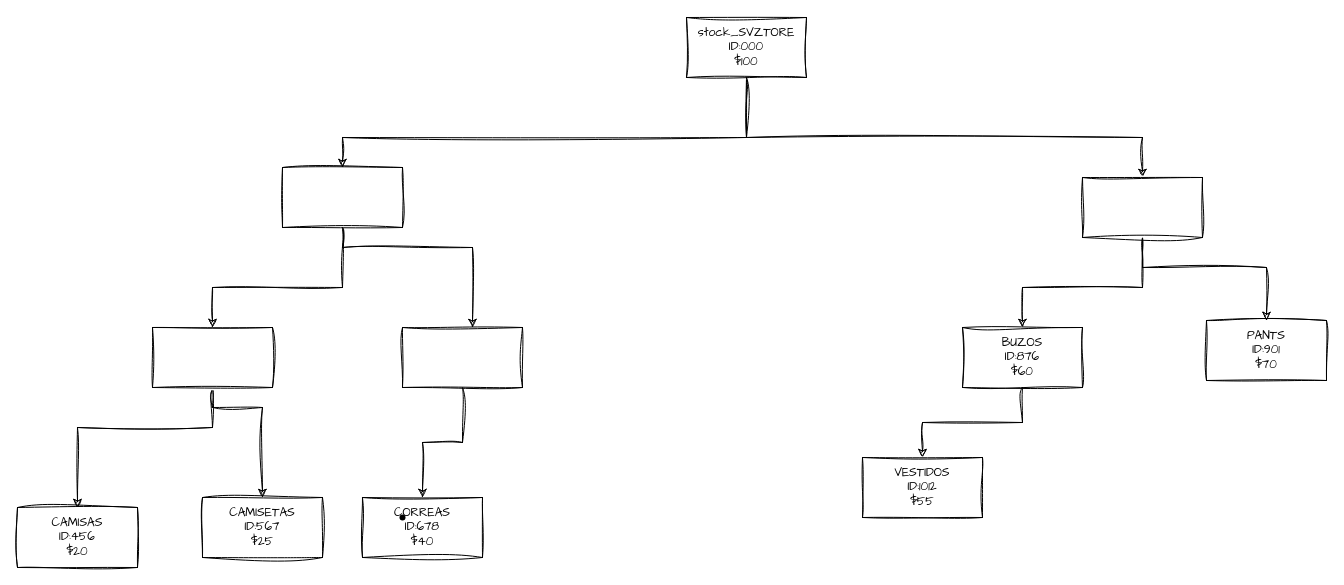
This 1344x585 diagram has some shape labels left out. Here are the shapes that lost their labels. From the top down, the centre of each, then its label:
At [342,197]: "CHAQUETA ID:123 $50".
At [1142,207]: "CHAMARRAS ID:765 $90".
At [212,357]: "SACOS #234 $30".
At [462,357]: "PANTALON ID:345 $45".
